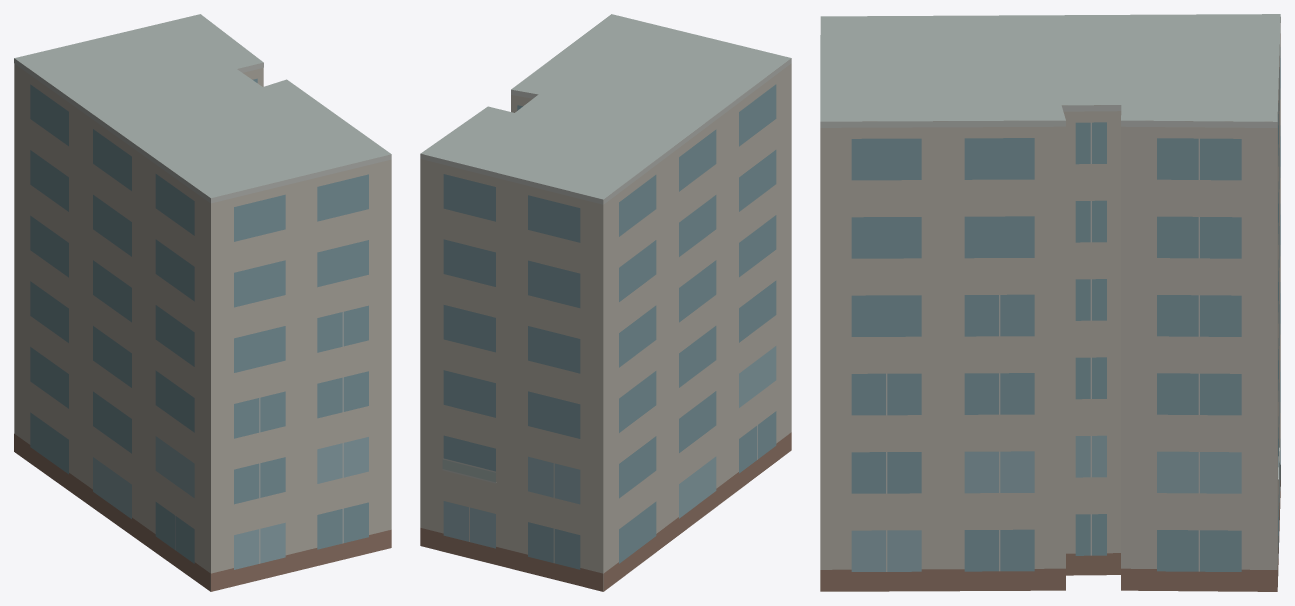
The model's file is survey-upis-32520611.glb.
3 views of the same model, side by side, from view 1: azimuth 30°, elevation 25°; view 2: azimuth 150°, elevation 25°; view 3: azimuth 270°, elevation 25° (orthographic). The views are drawn at different scales.
Visible parts, largest first — view 1: survey-upis-32520611.tmp; view 2: survey-upis-32520611.tmp; view 3: survey-upis-32520611.tmp.
Part boxes in pixels (<box>): survey-upis-32520611.tmp: <box>14,14,391,591</box>; survey-upis-32520611.tmp: <box>420,14,791,591</box>; survey-upis-32520611.tmp: <box>820,14,1280,591</box>.
Size of the model in its own units: 9.01 by 18.3 by 16.26.
